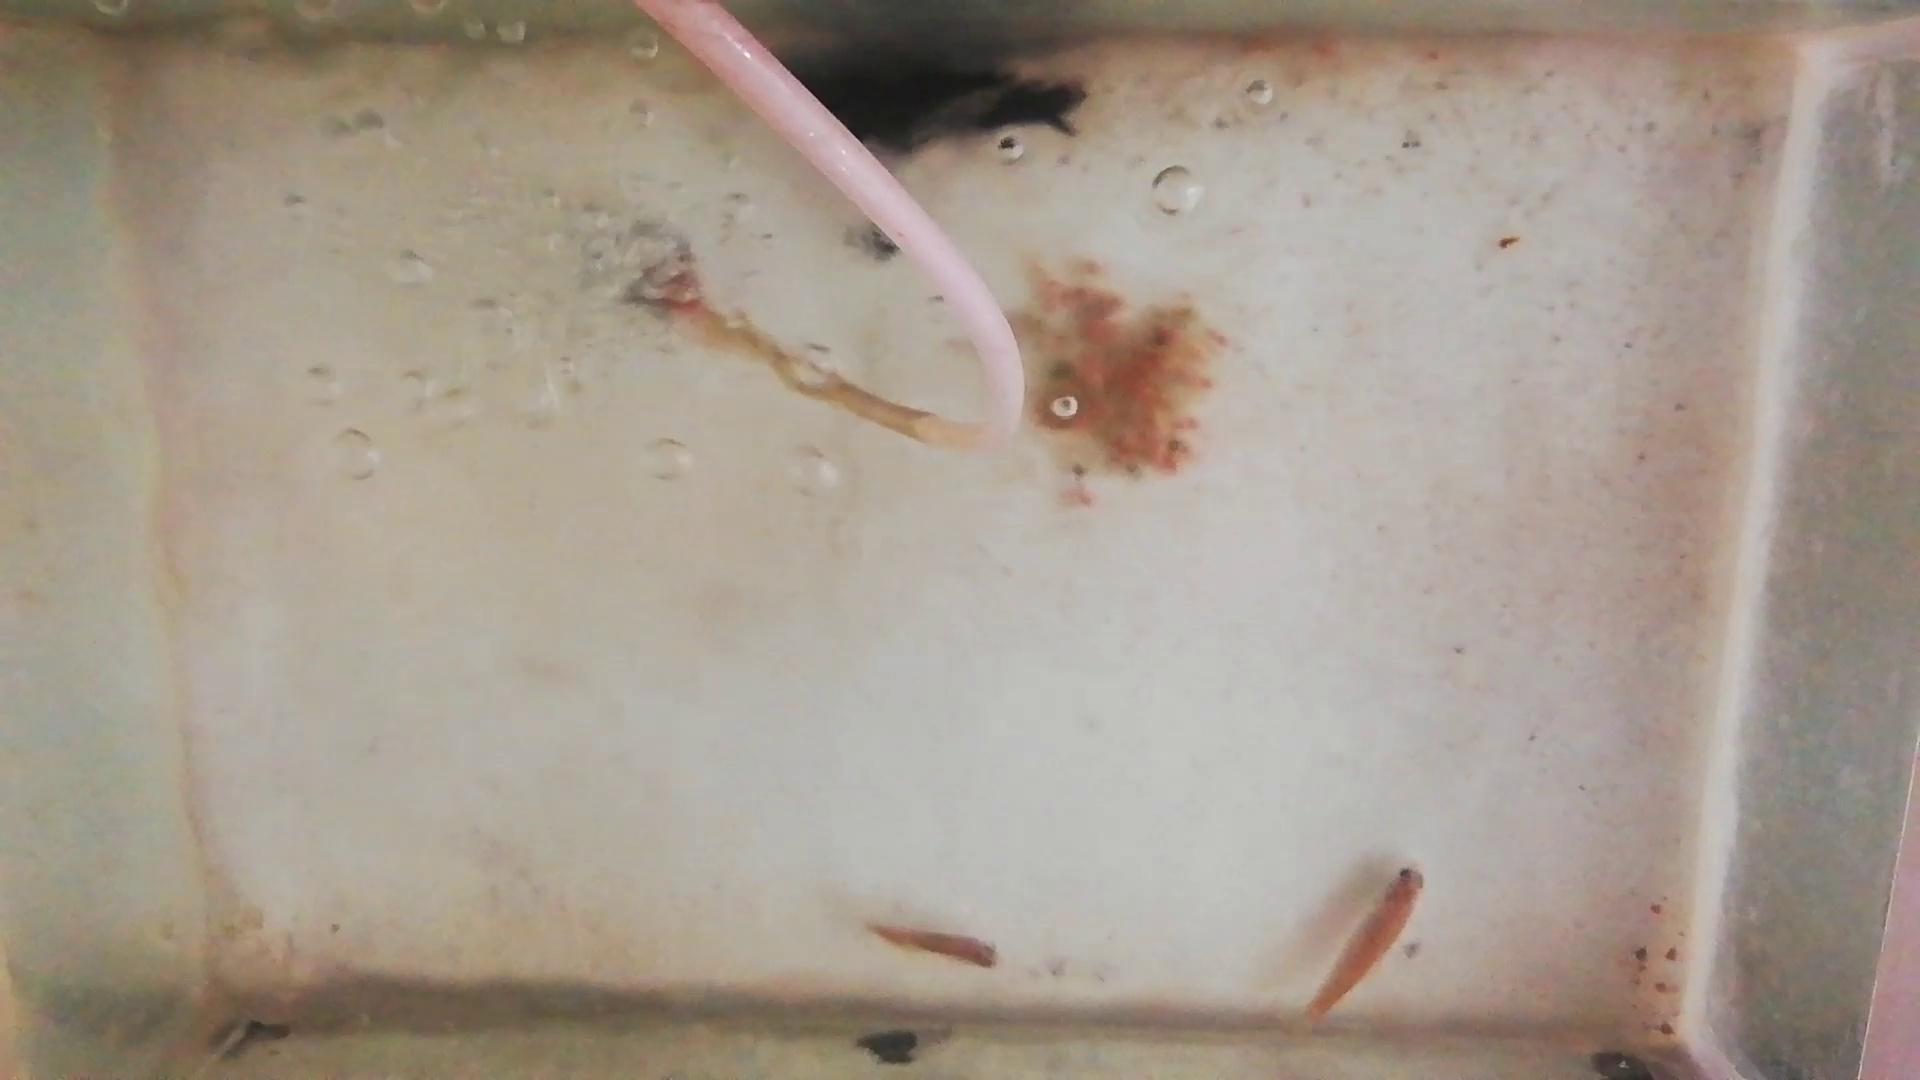fish: (1311, 866, 1427, 1017), (857, 919, 1004, 971)
